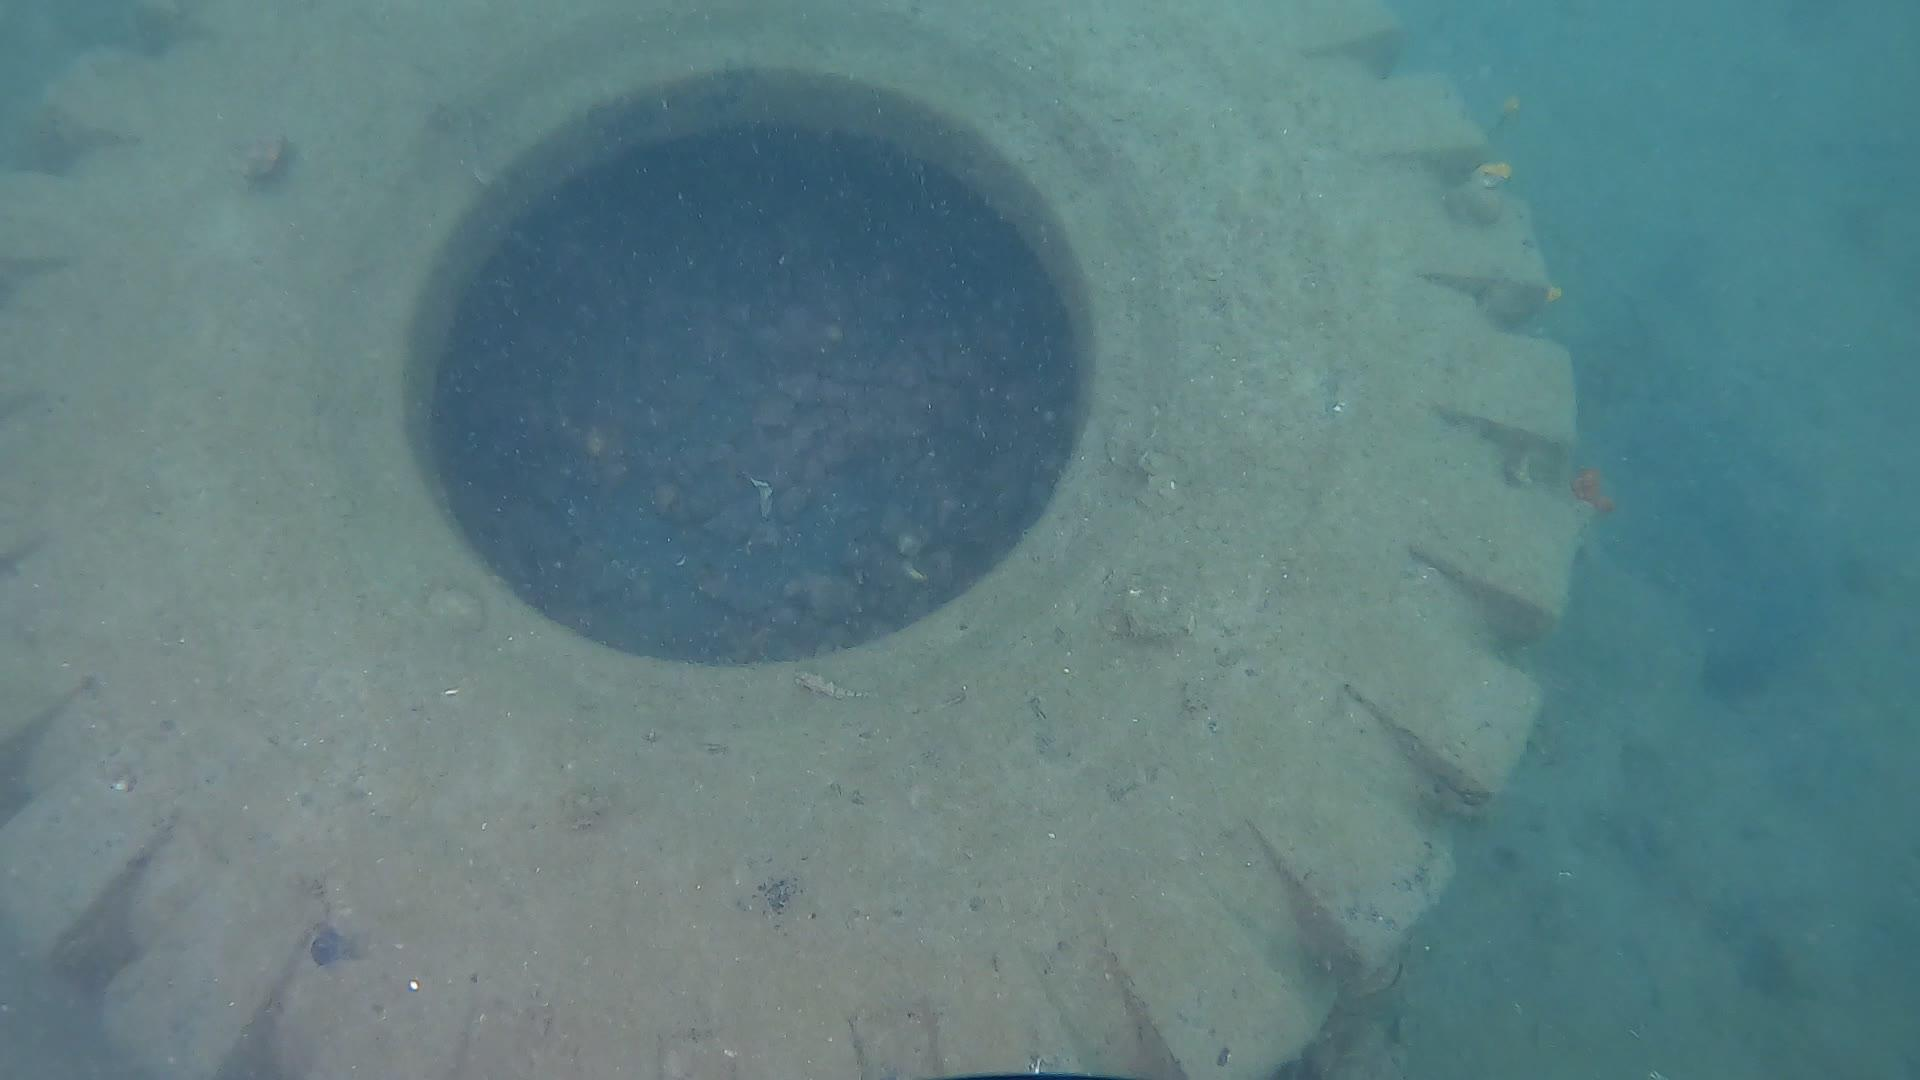tire: (0, 0, 1578, 1073)
